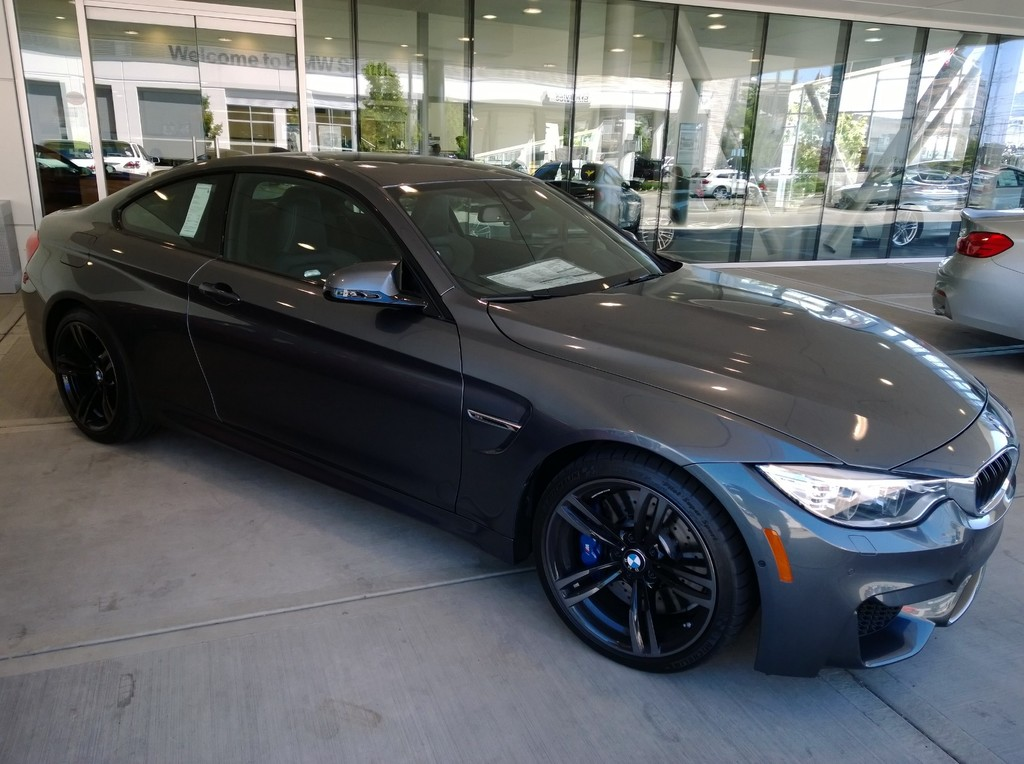Car: (22, 144, 1023, 675), (933, 181, 1023, 347)
